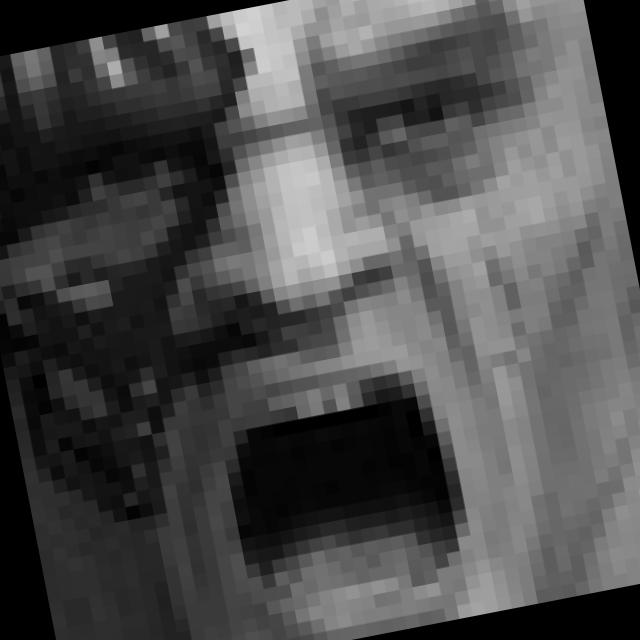angry: (52, 5, 627, 640)
